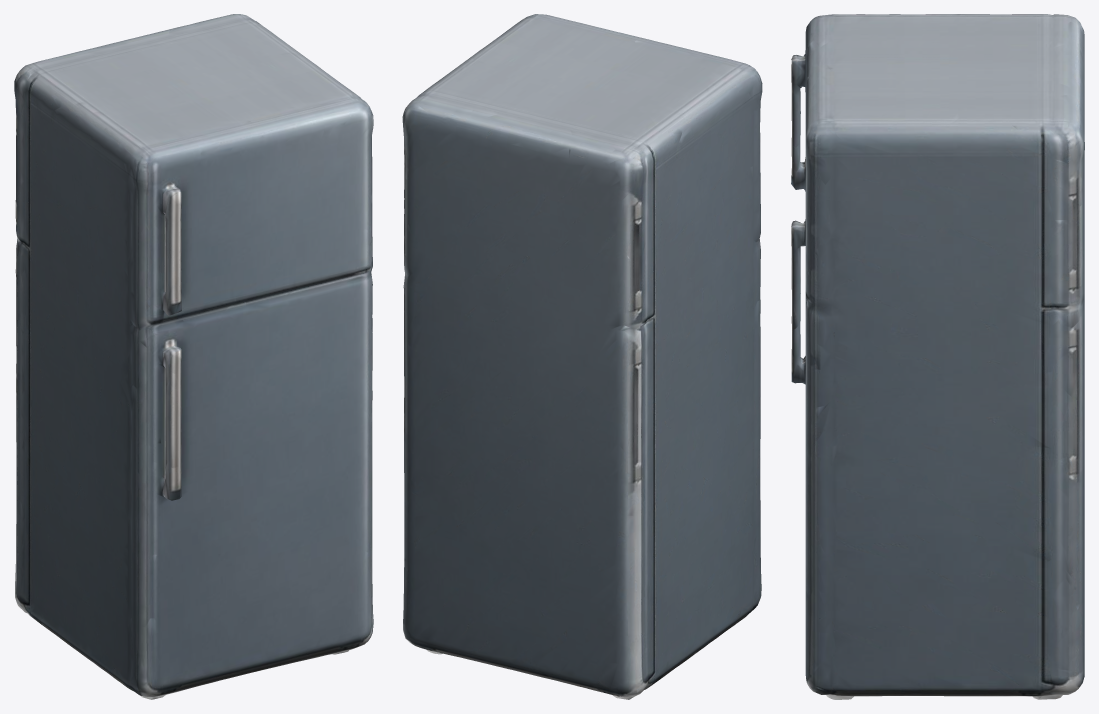
File: refrigerator.glb
The picture shows the model from 3 angles, left to right: view 1: azimuth 30°, elevation 25°; view 2: azimuth 150°, elevation 25°; view 3: azimuth 270°, elevation 25°; orthographic projection. The views are drawn at different scales.
Parts seen in each view (by area): view 1: geometry_0; view 2: geometry_0; view 3: geometry_0.
Part boxes in pixels (bbox=[...]): geometry_0: bbox=[14, 14, 373, 699]; geometry_0: bbox=[402, 14, 762, 699]; geometry_0: bbox=[791, 14, 1084, 699].
Bounding box in the file's own units: 0.8866 × 1.96 × 0.8989.
1 material, 1 textured.
